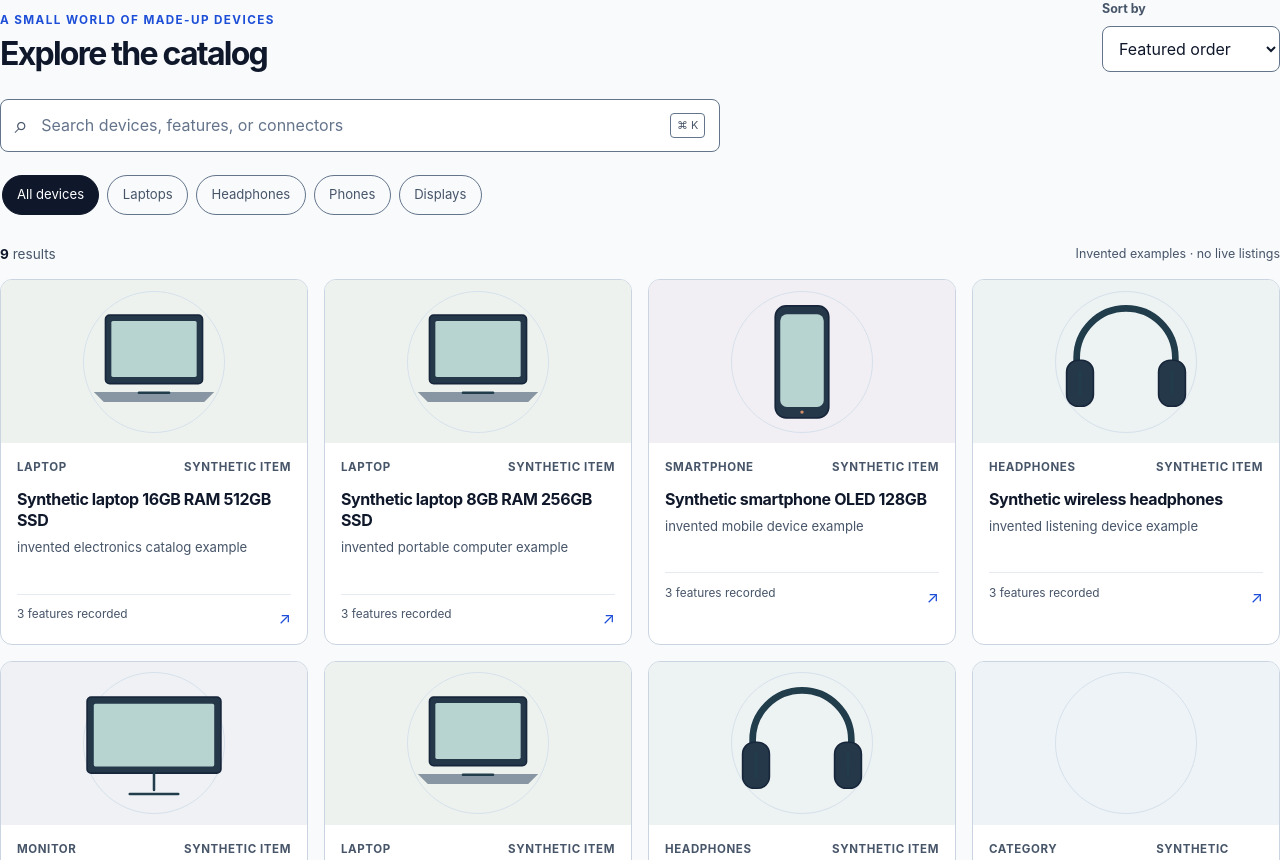
it: catalog and product presentation › shows a clear empty-search message
The image size is (1280, 860).
Type "missing device" into the search field named "search synthetic electronics".
click(349, 126); type("missing device")  # box [39,102,659,149]
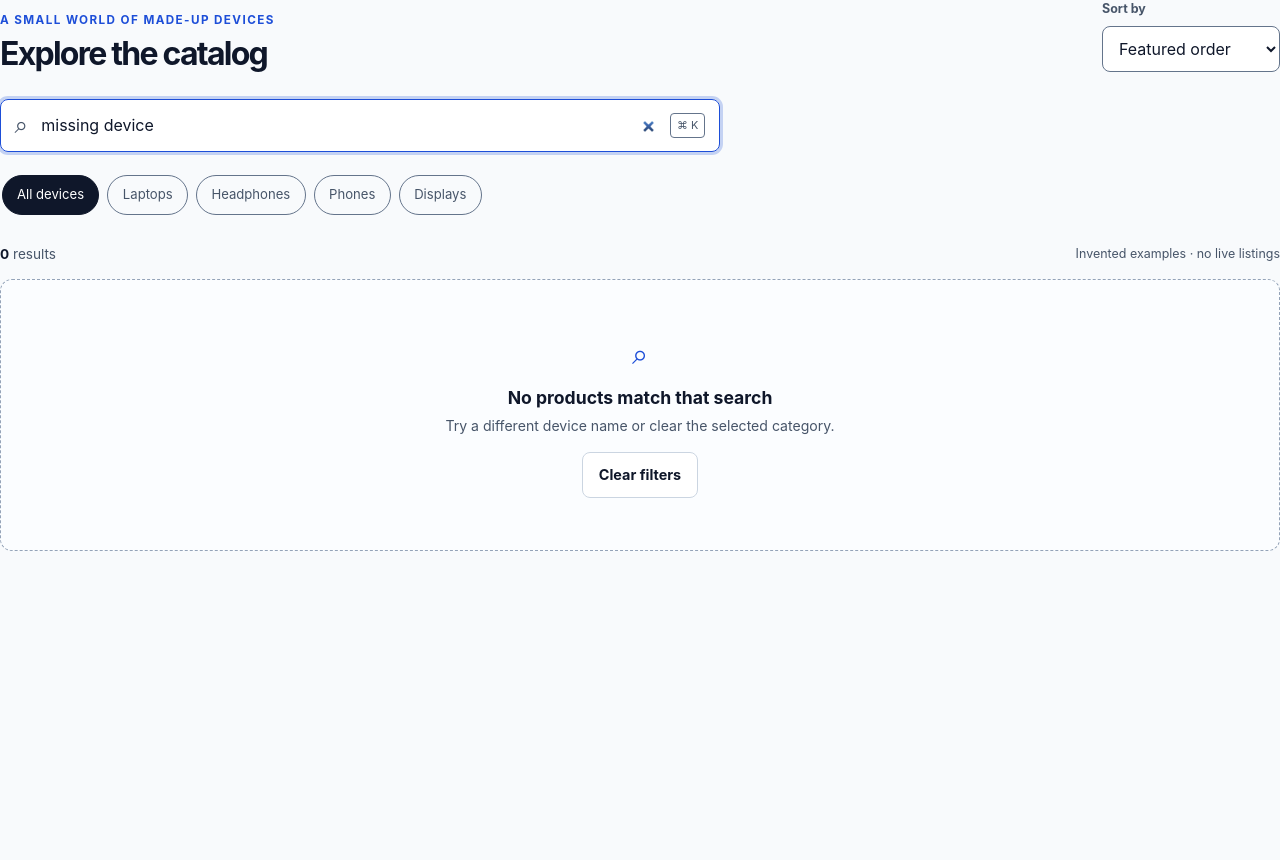
Now the message shows "No products match", box [508,387,772,408]
